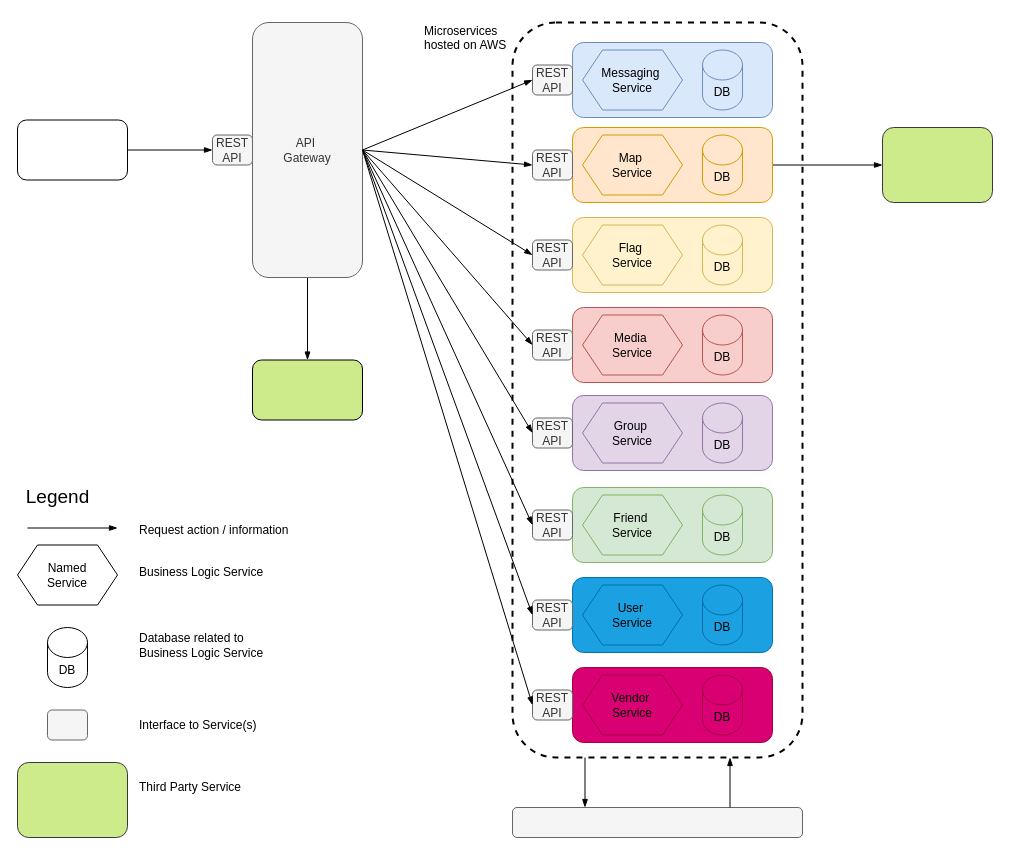
Some shapes in this 1010 by 855 pixel diagram are drawn without their labels. Here are the shapes that lost their labels. From the top down, the box of each, then its label:
(16, 119, 128, 180): Mobile Client
(882, 126, 992, 202): Google Maps API
(252, 359, 362, 420): Authentication Server
(16, 762, 128, 838): Name
(512, 806, 802, 838): Event Bus
